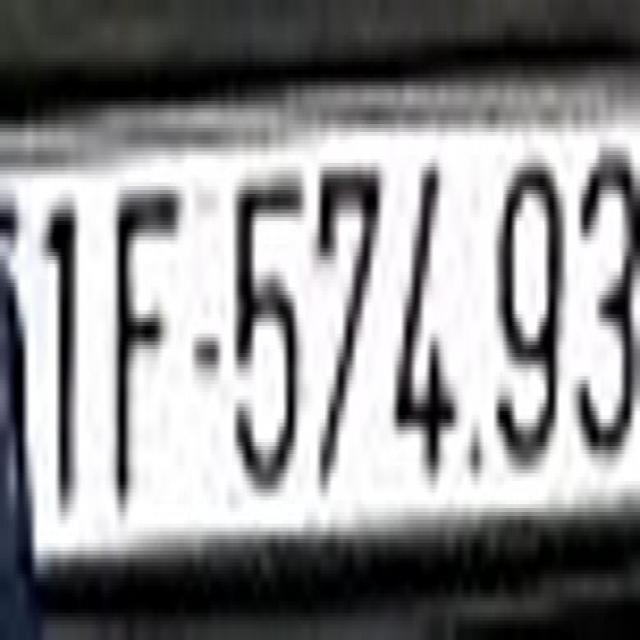1: (46, 182, 84, 504)
3: (574, 132, 640, 466)
4: (396, 171, 452, 488)
5: (228, 159, 305, 504)
7: (310, 124, 380, 512)
9: (491, 124, 564, 473)
F: (108, 198, 176, 500)
